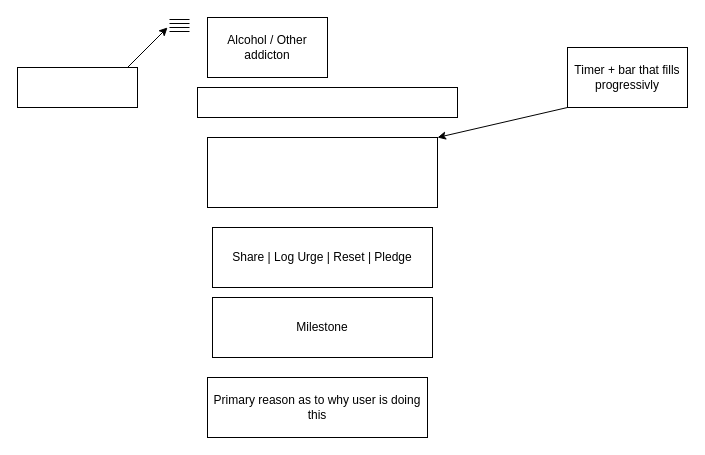
Some shapes in this 705 by 455 pixel diagram are drawn without their labels. Each missing label, with the box of its shape:
Burger Menu / Selection: (16, 66, 138, 108)
Summary | Reasons | Settings: (196, 86, 458, 118)
X Days X Hours X Minutes X Seconds: (206, 136, 438, 208)
